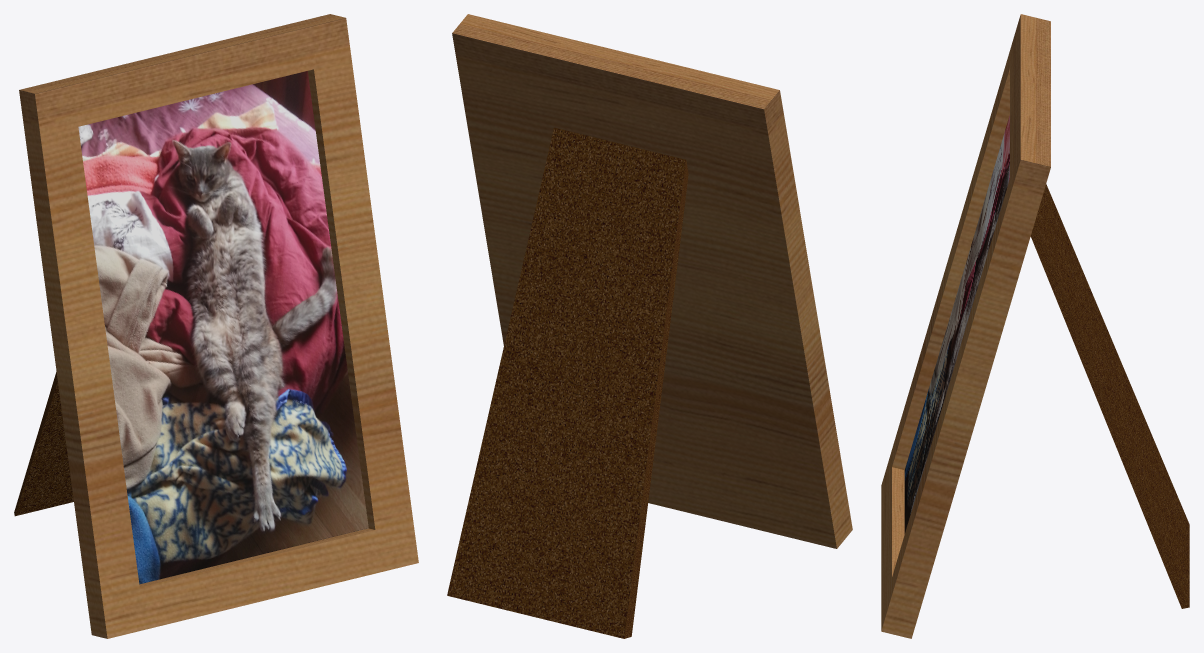
Rendered from PhotoFrame.FBX.
The picture shows the model from 3 angles, left to right: view 1: azimuth 30°, elevation 25°; view 2: azimuth 150°, elevation 25°; view 3: azimuth 270°, elevation 25°; orthographic projection. The views are drawn at different scales.
Visible parts, largest first — view 1: Photo_Frame; view 2: Photo_Frame; view 3: Photo_Frame.
Part boxes in pixels (x1,y1,x2,y2): Photo_Frame: (14, 14, 418, 638); Photo_Frame: (447, 14, 852, 638); Photo_Frame: (881, 14, 1189, 638).
Bounding box in the file's own units: 14.37 × 22.04 × 12.86.
Materials: 1 (1 with a texture image).
